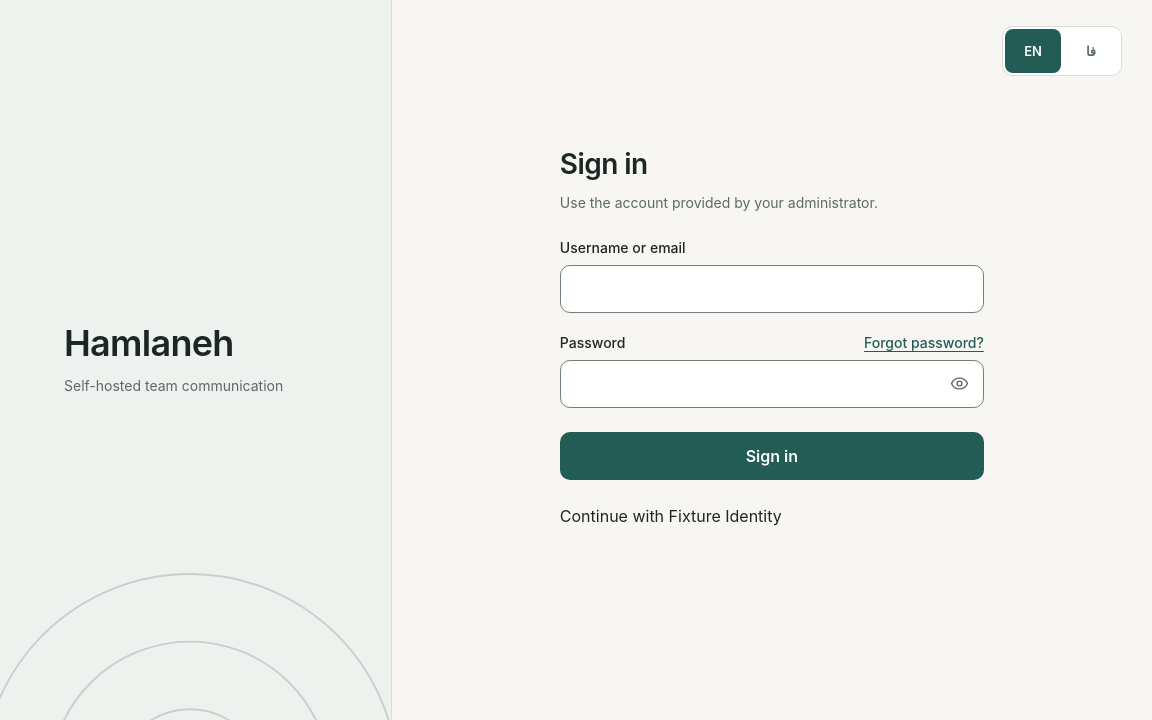
Test case: settings panel › moves between sections with the arrow keys
Expected: the heading "Sign in" is shown, [560,147,648,181]
In the field labelled "Username or email": (772, 289) [560,265,984,313], type "fixture.admin"
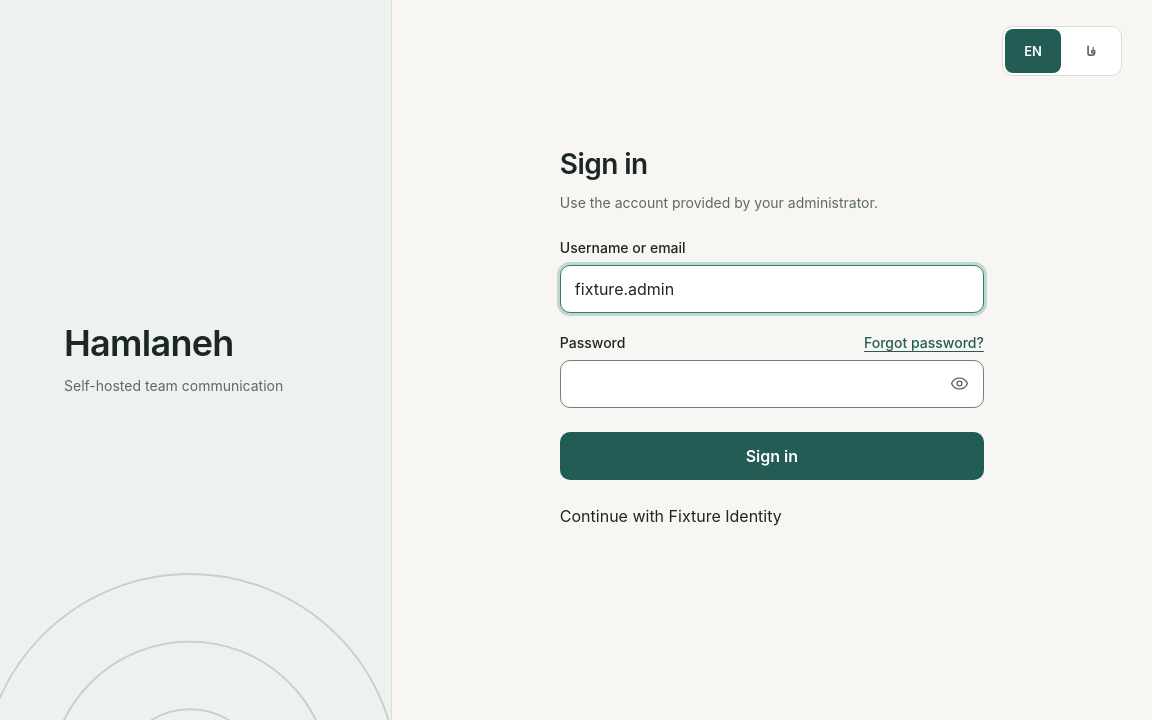
In the password field labelled "Password": (772, 384) [560,360,984,408], type "fixture-password-only-for-mocks"
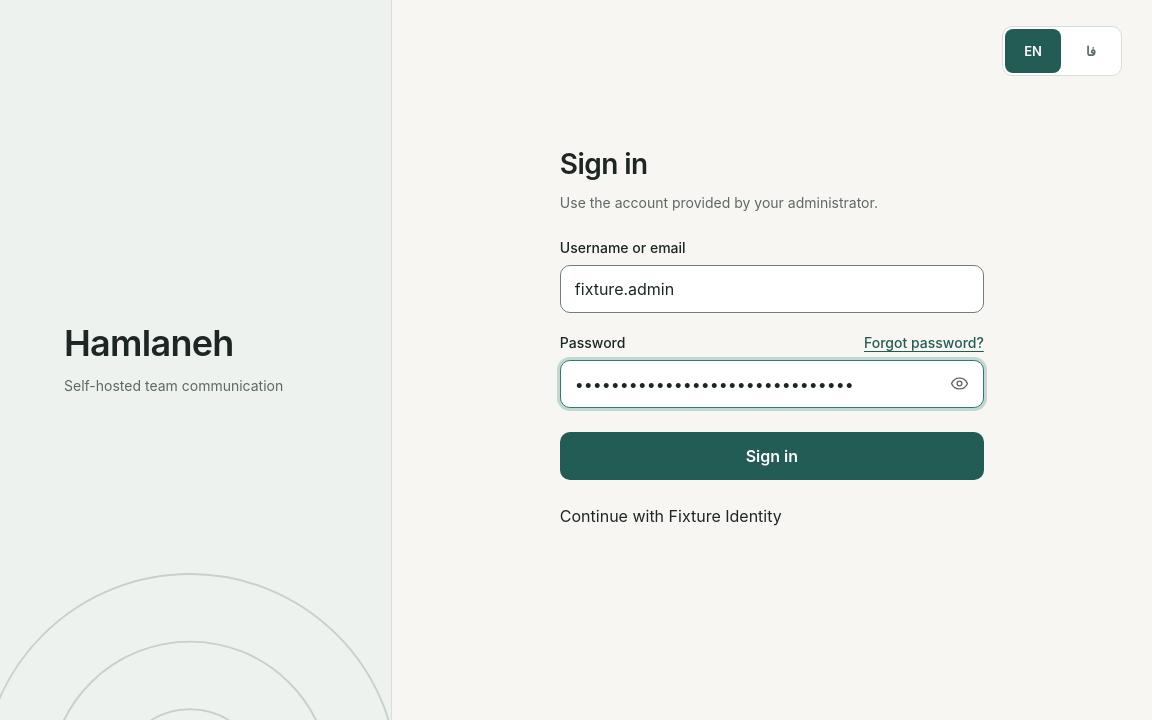
Click the button "Sign in": (772, 456) [560,432,984,480]
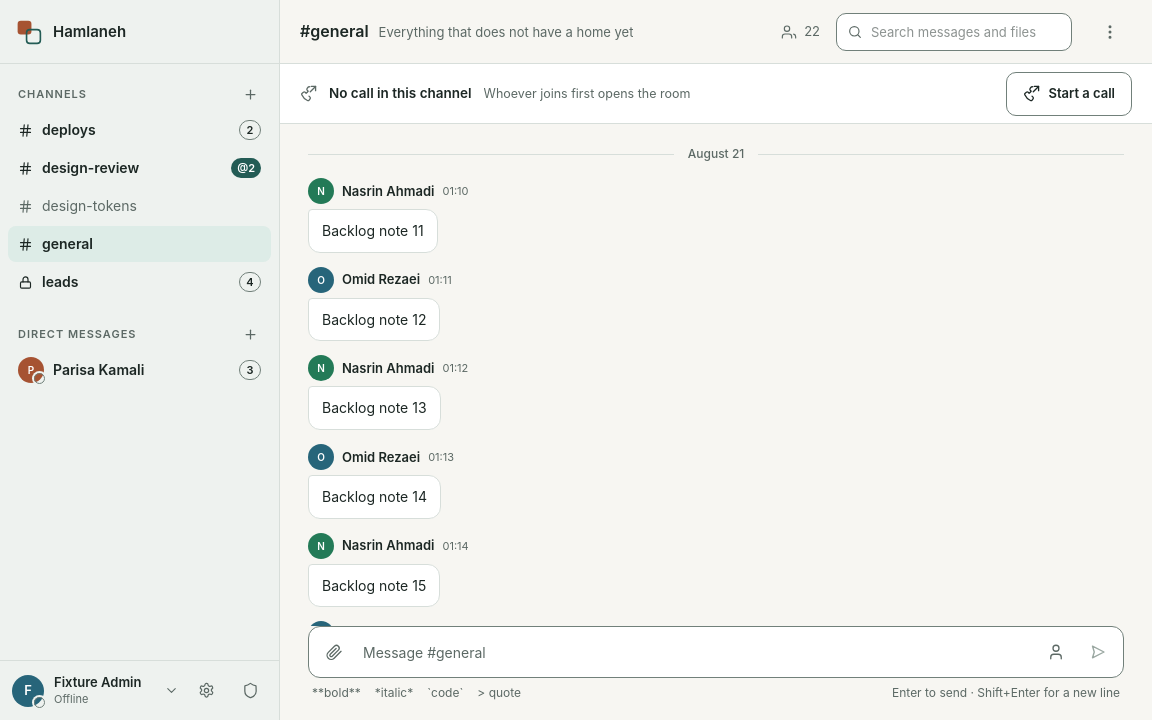
Expected: the navigation bar named "Conversations" is shown, [0,0,280,719]
Click the button named "Settings": (206, 690) [189,674,223,708]
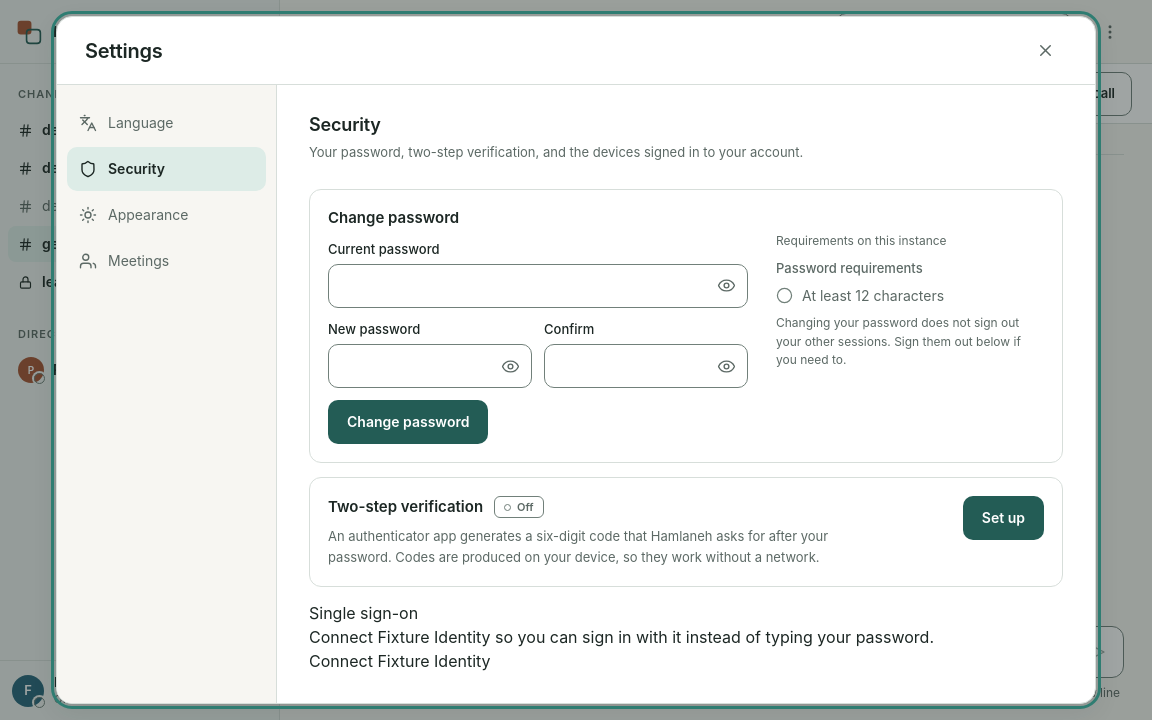
Click the tab "Security": (166, 169) [67,147,266,191]
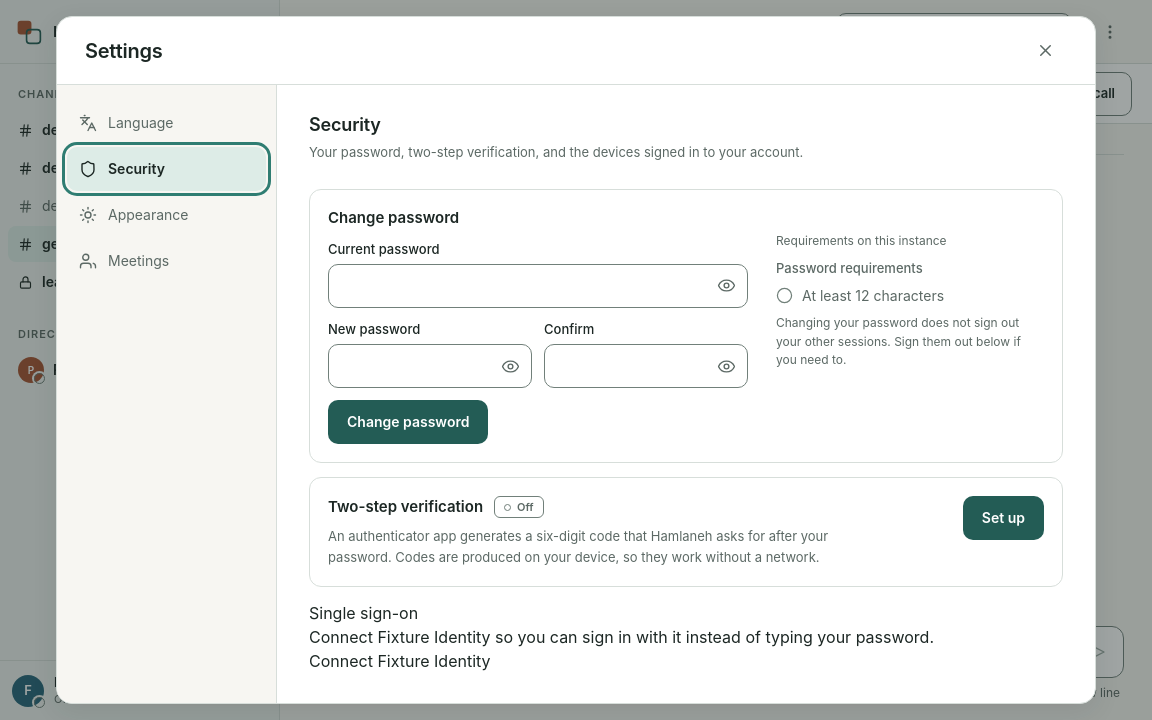
Press Arrowdown
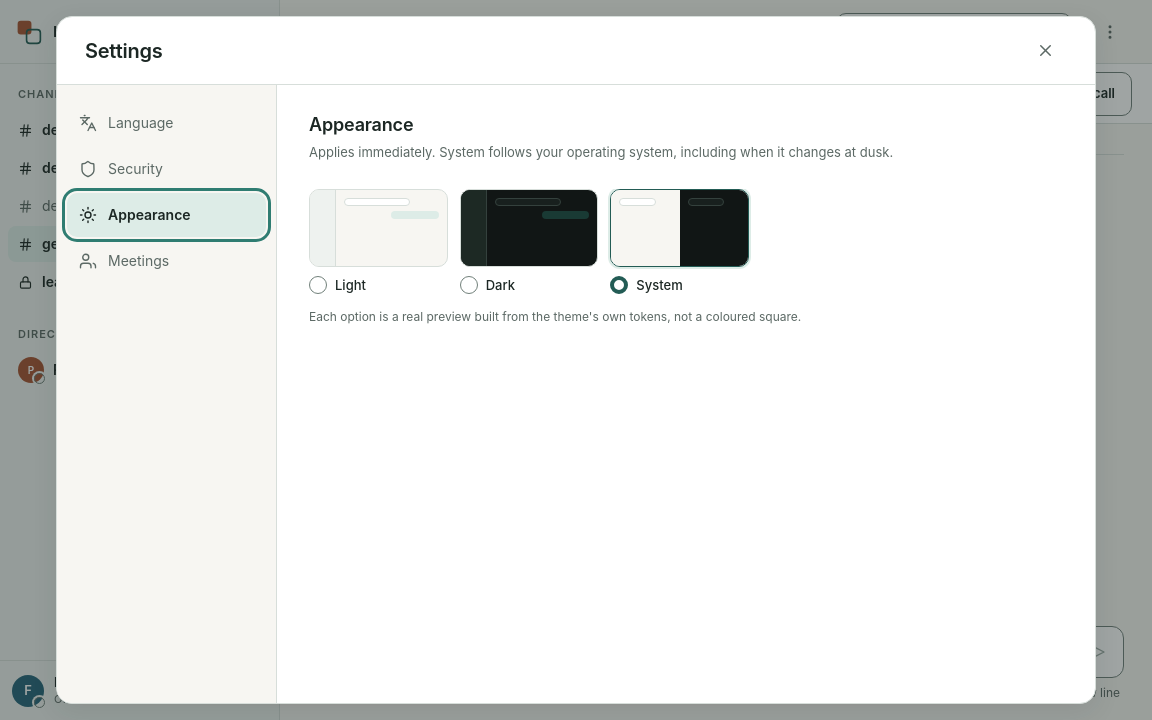
Expected: the radio button labelled "Dark" is shown, [460,189,598,294]
